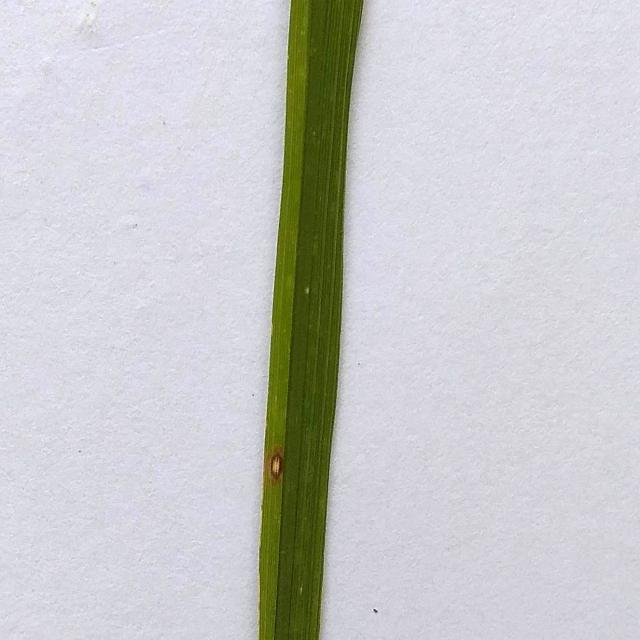Blast: (268, 450, 287, 480)
